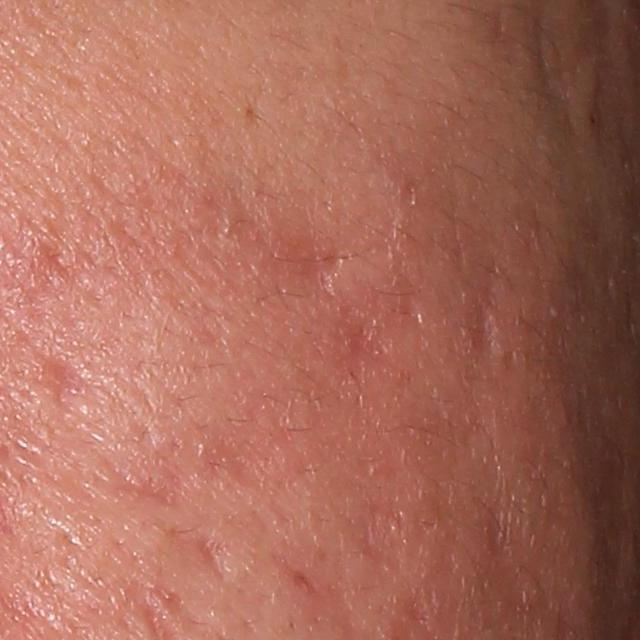atrophic_scar: (146, 425, 291, 498), (522, 6, 592, 150), (264, 212, 350, 310), (450, 288, 508, 400), (280, 535, 354, 622), (26, 344, 82, 412), (186, 540, 232, 593)
